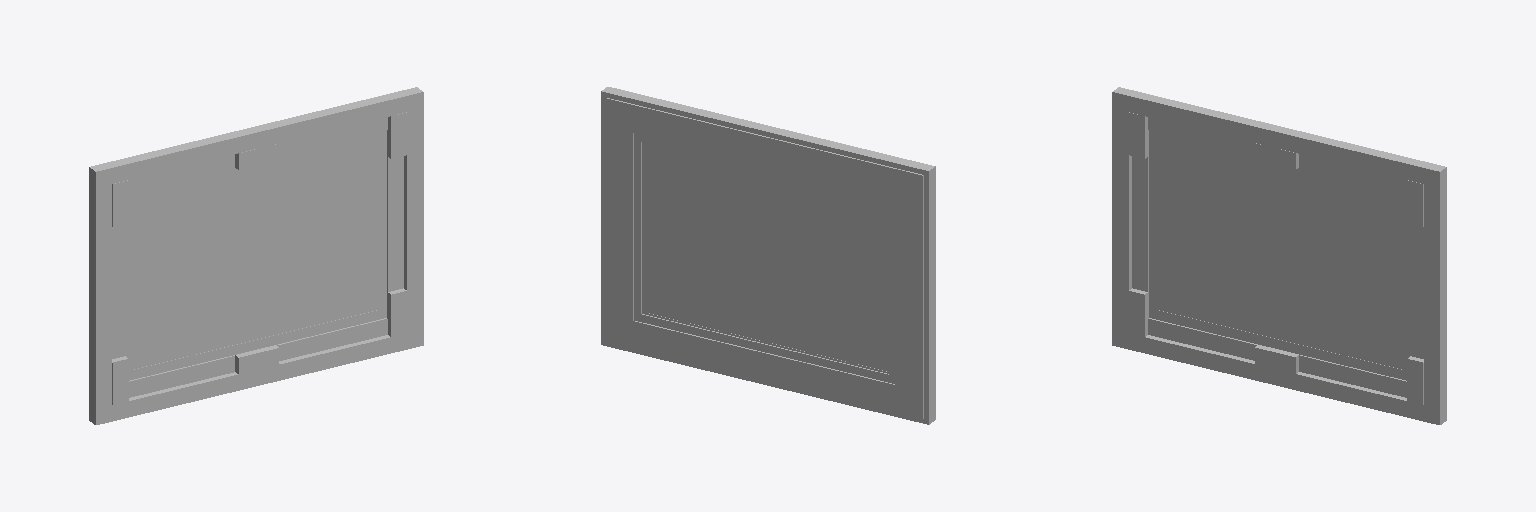
The model's file is frame.obj.
3 renders of one model, left to right at view 1: azimuth 30°, elevation 25°; view 2: azimuth 150°, elevation 25°; view 3: azimuth 330°, elevation 25°, orthographic.
Visible parts, largest first — view 1: Victorian_Framed_Painting, Painting; view 2: Victorian_Framed_Painting, Painting; view 3: Victorian_Framed_Painting, Painting.
Part boxes in pixels (bbox=[...]): Victorian_Framed_Painting: bbox=[89, 87, 423, 424]; Painting: bbox=[134, 142, 376, 368]; Victorian_Framed_Painting: bbox=[601, 87, 935, 424]; Painting: bbox=[644, 144, 887, 371]; Victorian_Framed_Painting: bbox=[1112, 87, 1446, 424]; Painting: bbox=[1159, 142, 1401, 368].
Bounding box in the file's own units: 1.14 × 0.84 × 0.047.